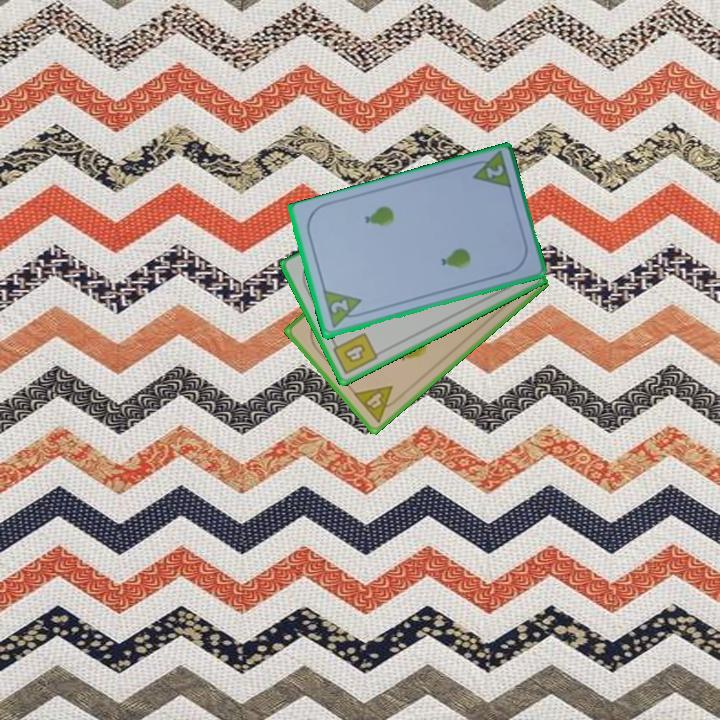2p: (319, 287, 367, 332), (482, 161, 506, 181)
4b: (328, 329, 381, 378)
4p: (350, 382, 404, 426)
